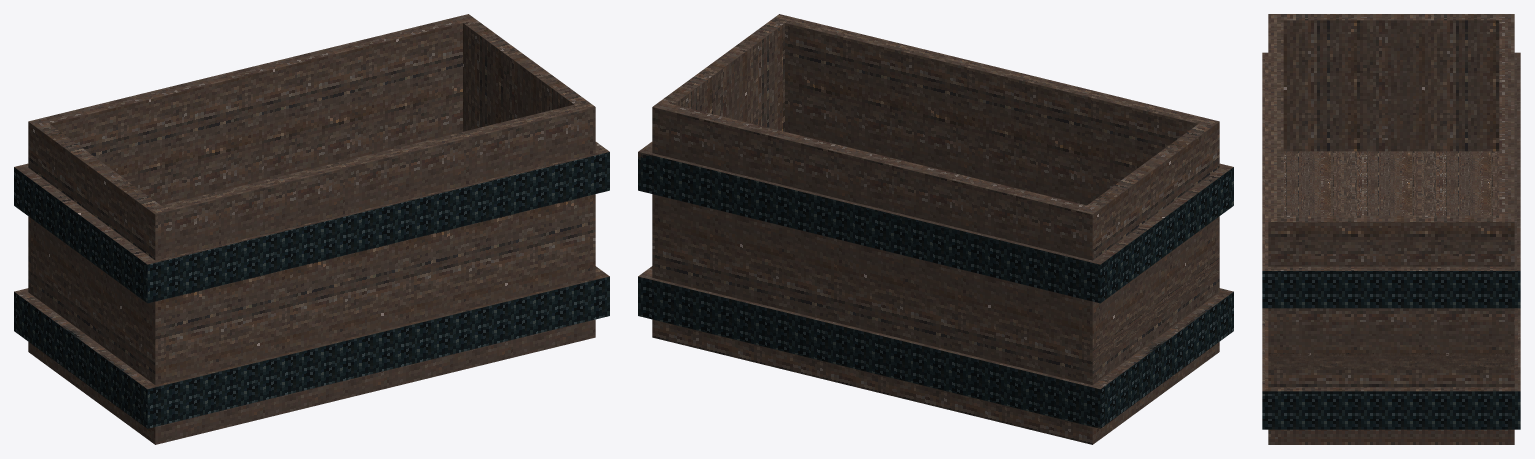
Rendered from testboat.glb.
The picture shows the model from 3 angles, left to right: view 1: azimuth 30°, elevation 25°; view 2: azimuth 150°, elevation 25°; view 3: azimuth 270°, elevation 25°; orthographic projection. The views are drawn at different scales.
Parts seen in each view (by area): view 1: Cube, Cube.001; view 2: Cube, Cube.001; view 3: Cube, Cube.001.
Part boxes in pixels (bbox=[...]): Cube: bbox=[14, 14, 609, 444]; Cube.001: bbox=[28, 270, 153, 364]; Cube: bbox=[638, 14, 1233, 444]; Cube.001: bbox=[1092, 257, 1219, 365]; Cube: bbox=[1262, 14, 1520, 444]; Cube.001: bbox=[1268, 151, 1514, 368].
Size of the model in its own units: 3.14 by 1.5 by 1.57.
2 materials, 2 textured.
